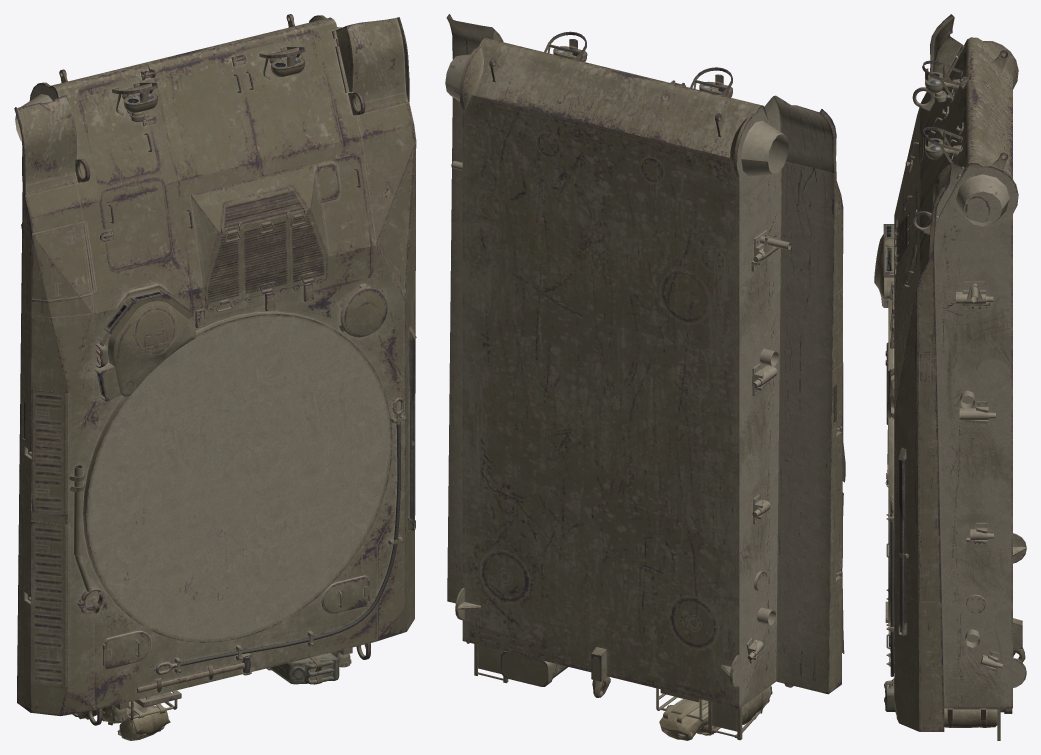
Rendered from Hull.glb.
The picture shows the model from 3 angles, left to right: view 1: azimuth 30°, elevation 25°; view 2: azimuth 150°, elevation 25°; view 3: azimuth 270°, elevation 25°; orthographic projection. The views are drawn at different scales.
Visible parts, largest first — view 1: set_0_group_0; view 2: set_0_group_0; view 3: set_0_group_0.
Boxes of the visible parts, box(x1,y1,x2,y2) form: set_0_group_0: box(14, 14, 416, 740); set_0_group_0: box(445, 14, 845, 740); set_0_group_0: box(874, 14, 1026, 740).
Bounding box in the file's own units: 3.17 × 5.12 × 1.18.
Materials: 1 (1 with a texture image).
